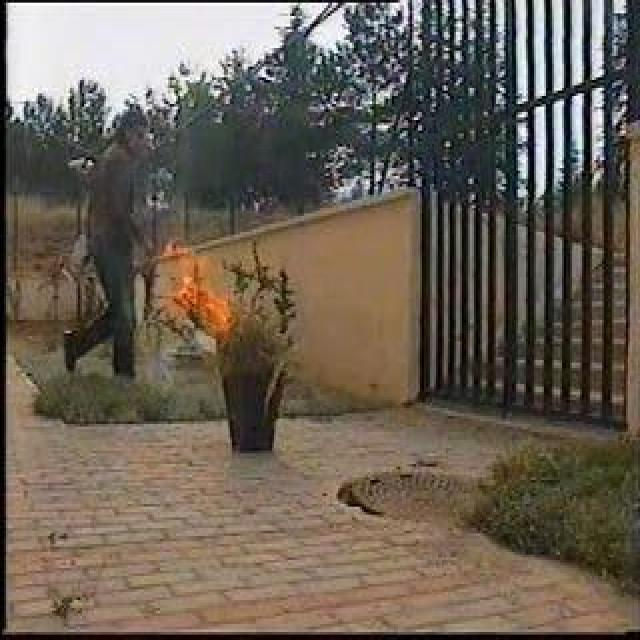fire: (167, 237, 235, 328)
